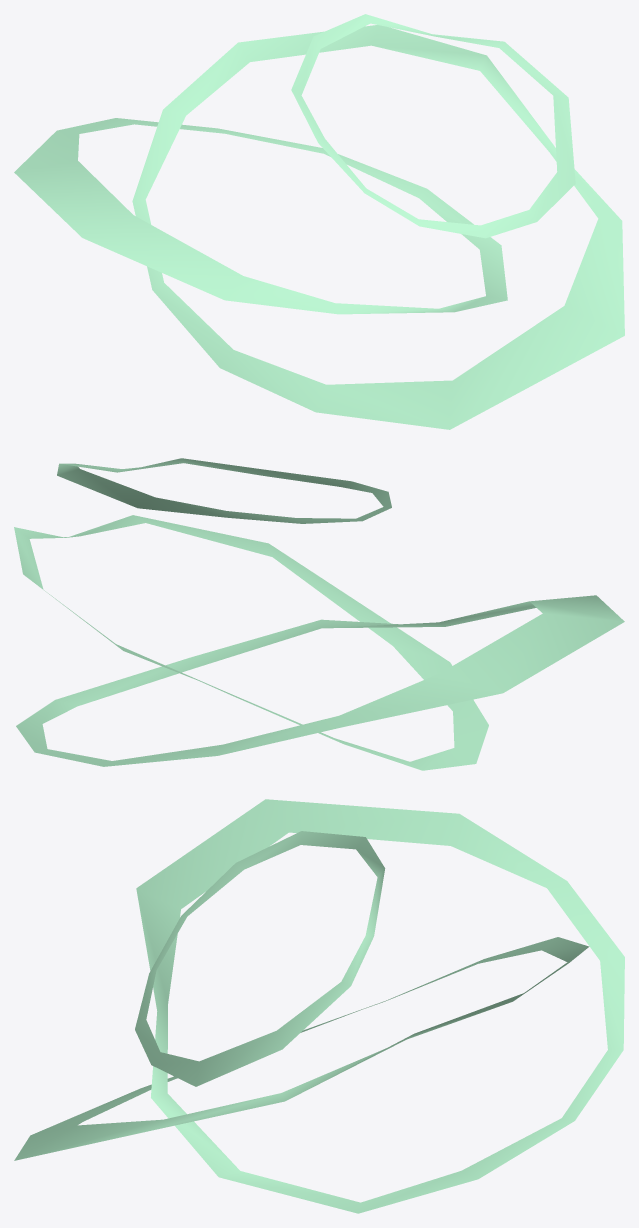
3 views of the same model, one above another, from view 1: azimuth 30°, elevation 25°; view 2: azimuth 150°, elevation 25°; view 3: azimuth 270°, elevation 25° (orthographic). The views are drawn at different scales.
Parts seen in each view (by area): view 1: Object03; view 2: Object03; view 3: Object03.
Boxes of the visible parts, <box> form: Object03: <box>14,14,624,429</box>; Object03: <box>14,458,624,770</box>; Object03: <box>14,799,624,1213</box>.
Bounding box in the file's own units: 210 × 114 × 204.
